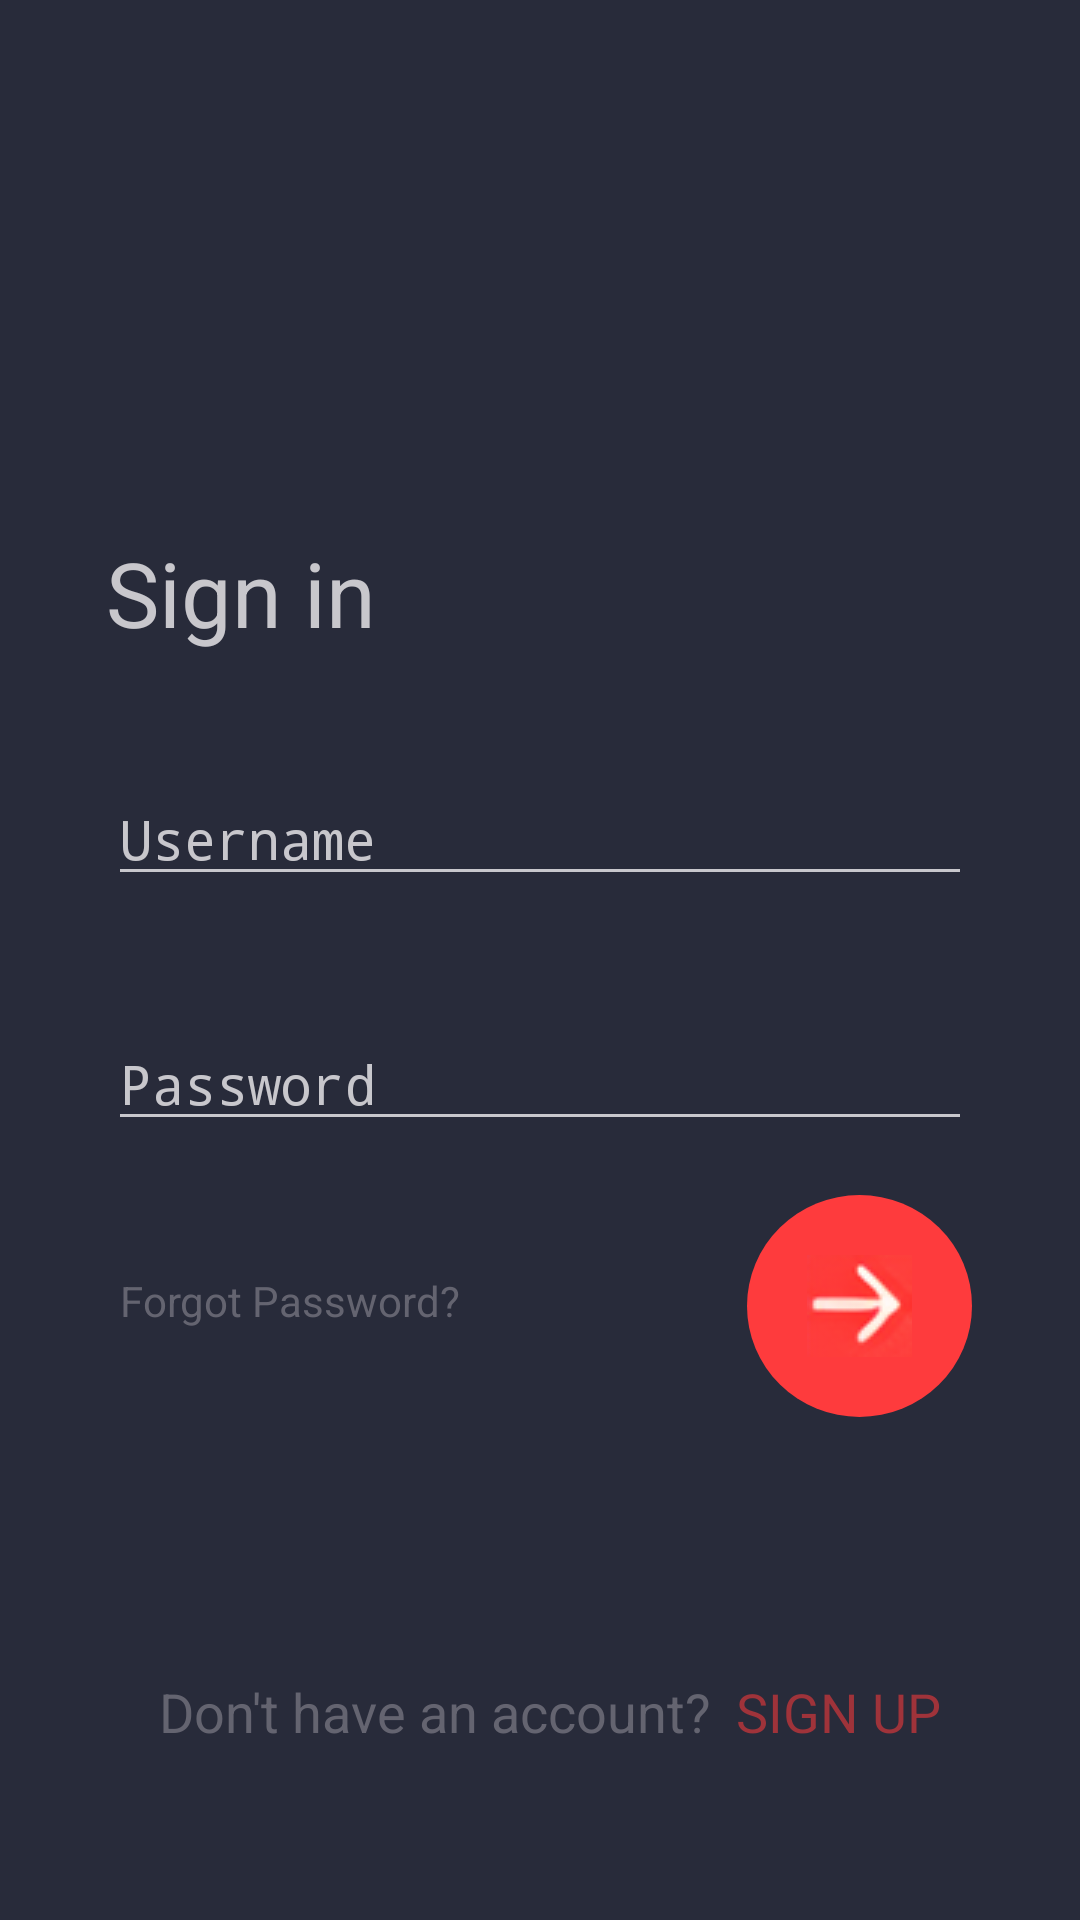

Icon bounding boxes for this 1080 x 1920 phone screenshot, format (x1, y1, x2, y2):
arrow auto: (747, 1195, 972, 1417)
